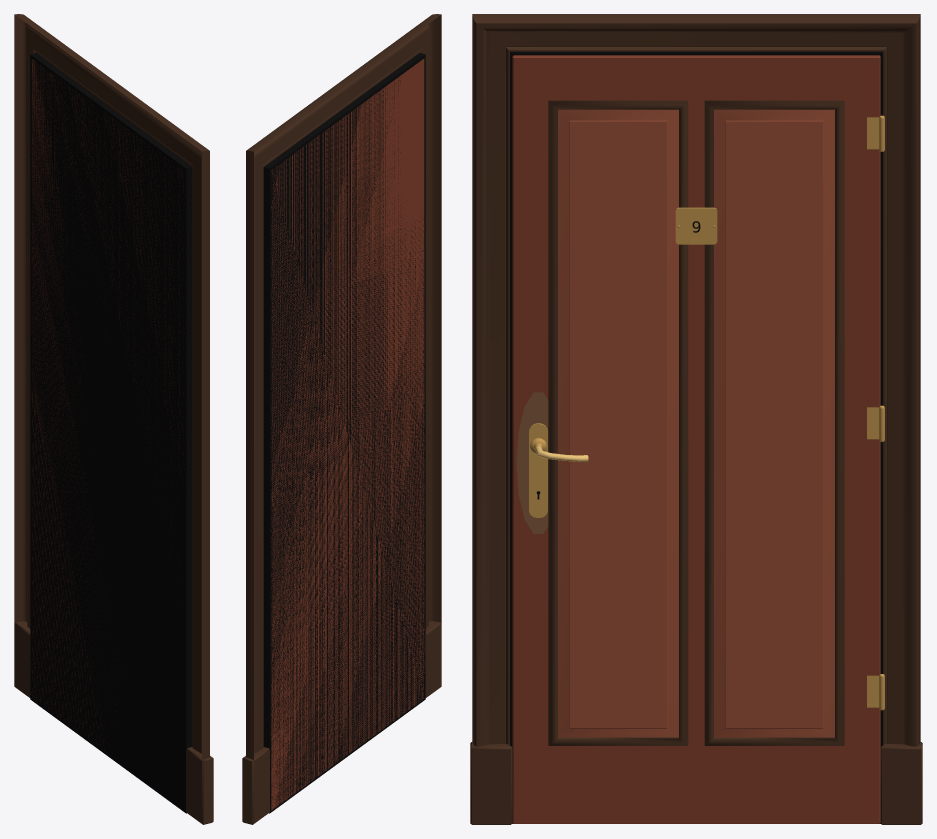
Rendered from hotel_door_e.glb.
The picture shows the model from 3 angles, left to right: view 1: azimuth 30°, elevation 25°; view 2: azimuth 150°, elevation 25°; view 3: azimuth 270°, elevation 25°; orthographic projection. The views are drawn at different scales.
Visible parts, largest first — view 1: fuge, bekleidung, blatt; view 2: fuge, blatt, bekleidung; view 3: fuellungen, blatt, bekleidung, kehlleisten, fuge, beschlag, abrieb, nummernschild.
Boxes of the visible parts, x1,y1,x2,y2 form: fuge: [30, 53, 192, 813]; bekleidung: [14, 14, 213, 824]; blatt: [31, 59, 184, 752]; fuge: [263, 53, 425, 813]; blatt: [271, 58, 424, 810]; bekleidung: [242, 14, 441, 824]; fuellungen: [558, 109, 834, 737]; blatt: [512, 55, 880, 823]; bekleidung: [470, 14, 922, 824]; kehlleisten: [548, 100, 844, 745]; fuge: [510, 51, 882, 823]; beschlag: [529, 115, 884, 710]; abrieb: [516, 392, 548, 533]; nummernschild: [675, 207, 717, 244].
Size of the model in its own units: 0.1118 by 2.22 by 1.13.
